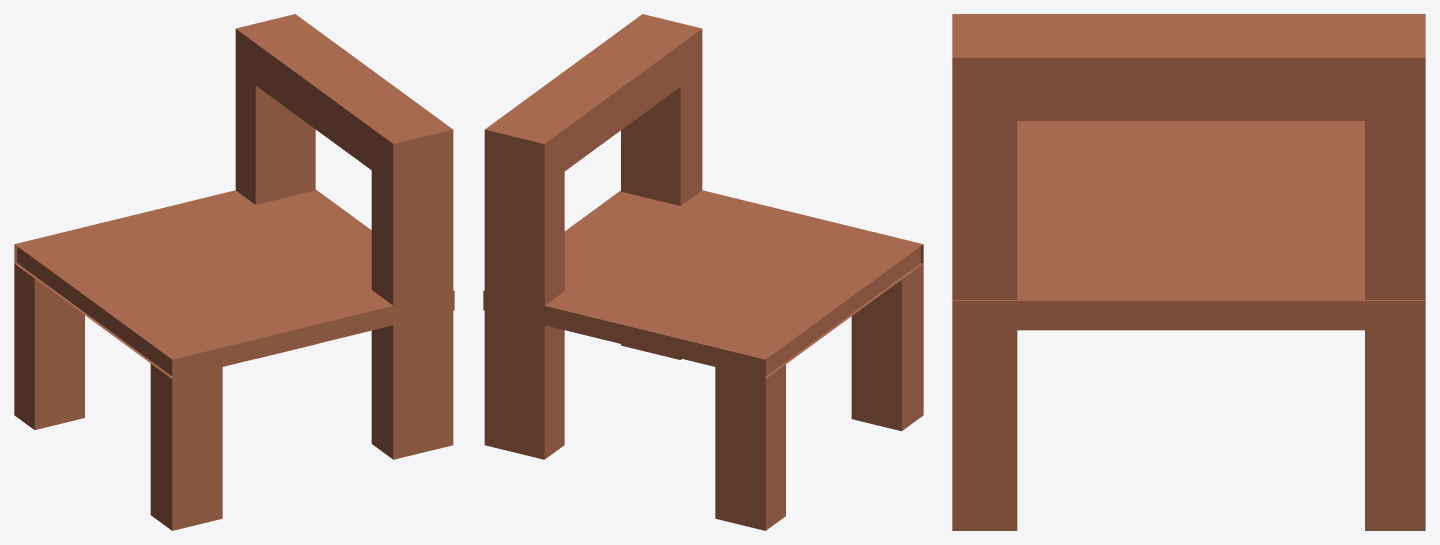
File: GarfunkelDemian_4rtoB_Silla.fbx
3 views of the same model, side by side, from view 1: azimuth 30°, elevation 25°; view 2: azimuth 150°, elevation 25°; view 3: azimuth 270°, elevation 25° (orthographic). The views are drawn at different scales.
Parts seen in each view (by area): view 1: Cube; view 2: Cube; view 3: Cube.
Boxes of the visible parts, box(x1,y1,x2,y2) form: Cube: box(14, 14, 454, 530); Cube: box(483, 14, 923, 530); Cube: box(952, 14, 1425, 530).
Bounding box in the file's own units: 141 × 159 × 137.
1 material, 1 textured.
